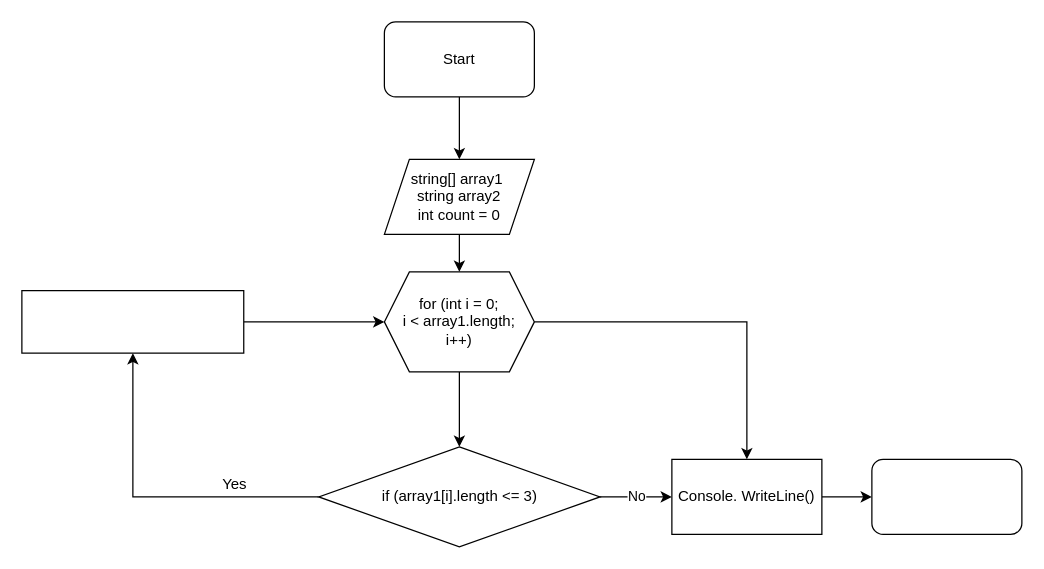
Some shapes in this 1044 by 569 pixel diagram are drawn without their labels. The centre of each missing label's shape, as x and y in pixels:
array2[count] = array1[i] count++;: (132,321)
End: (946,496)
